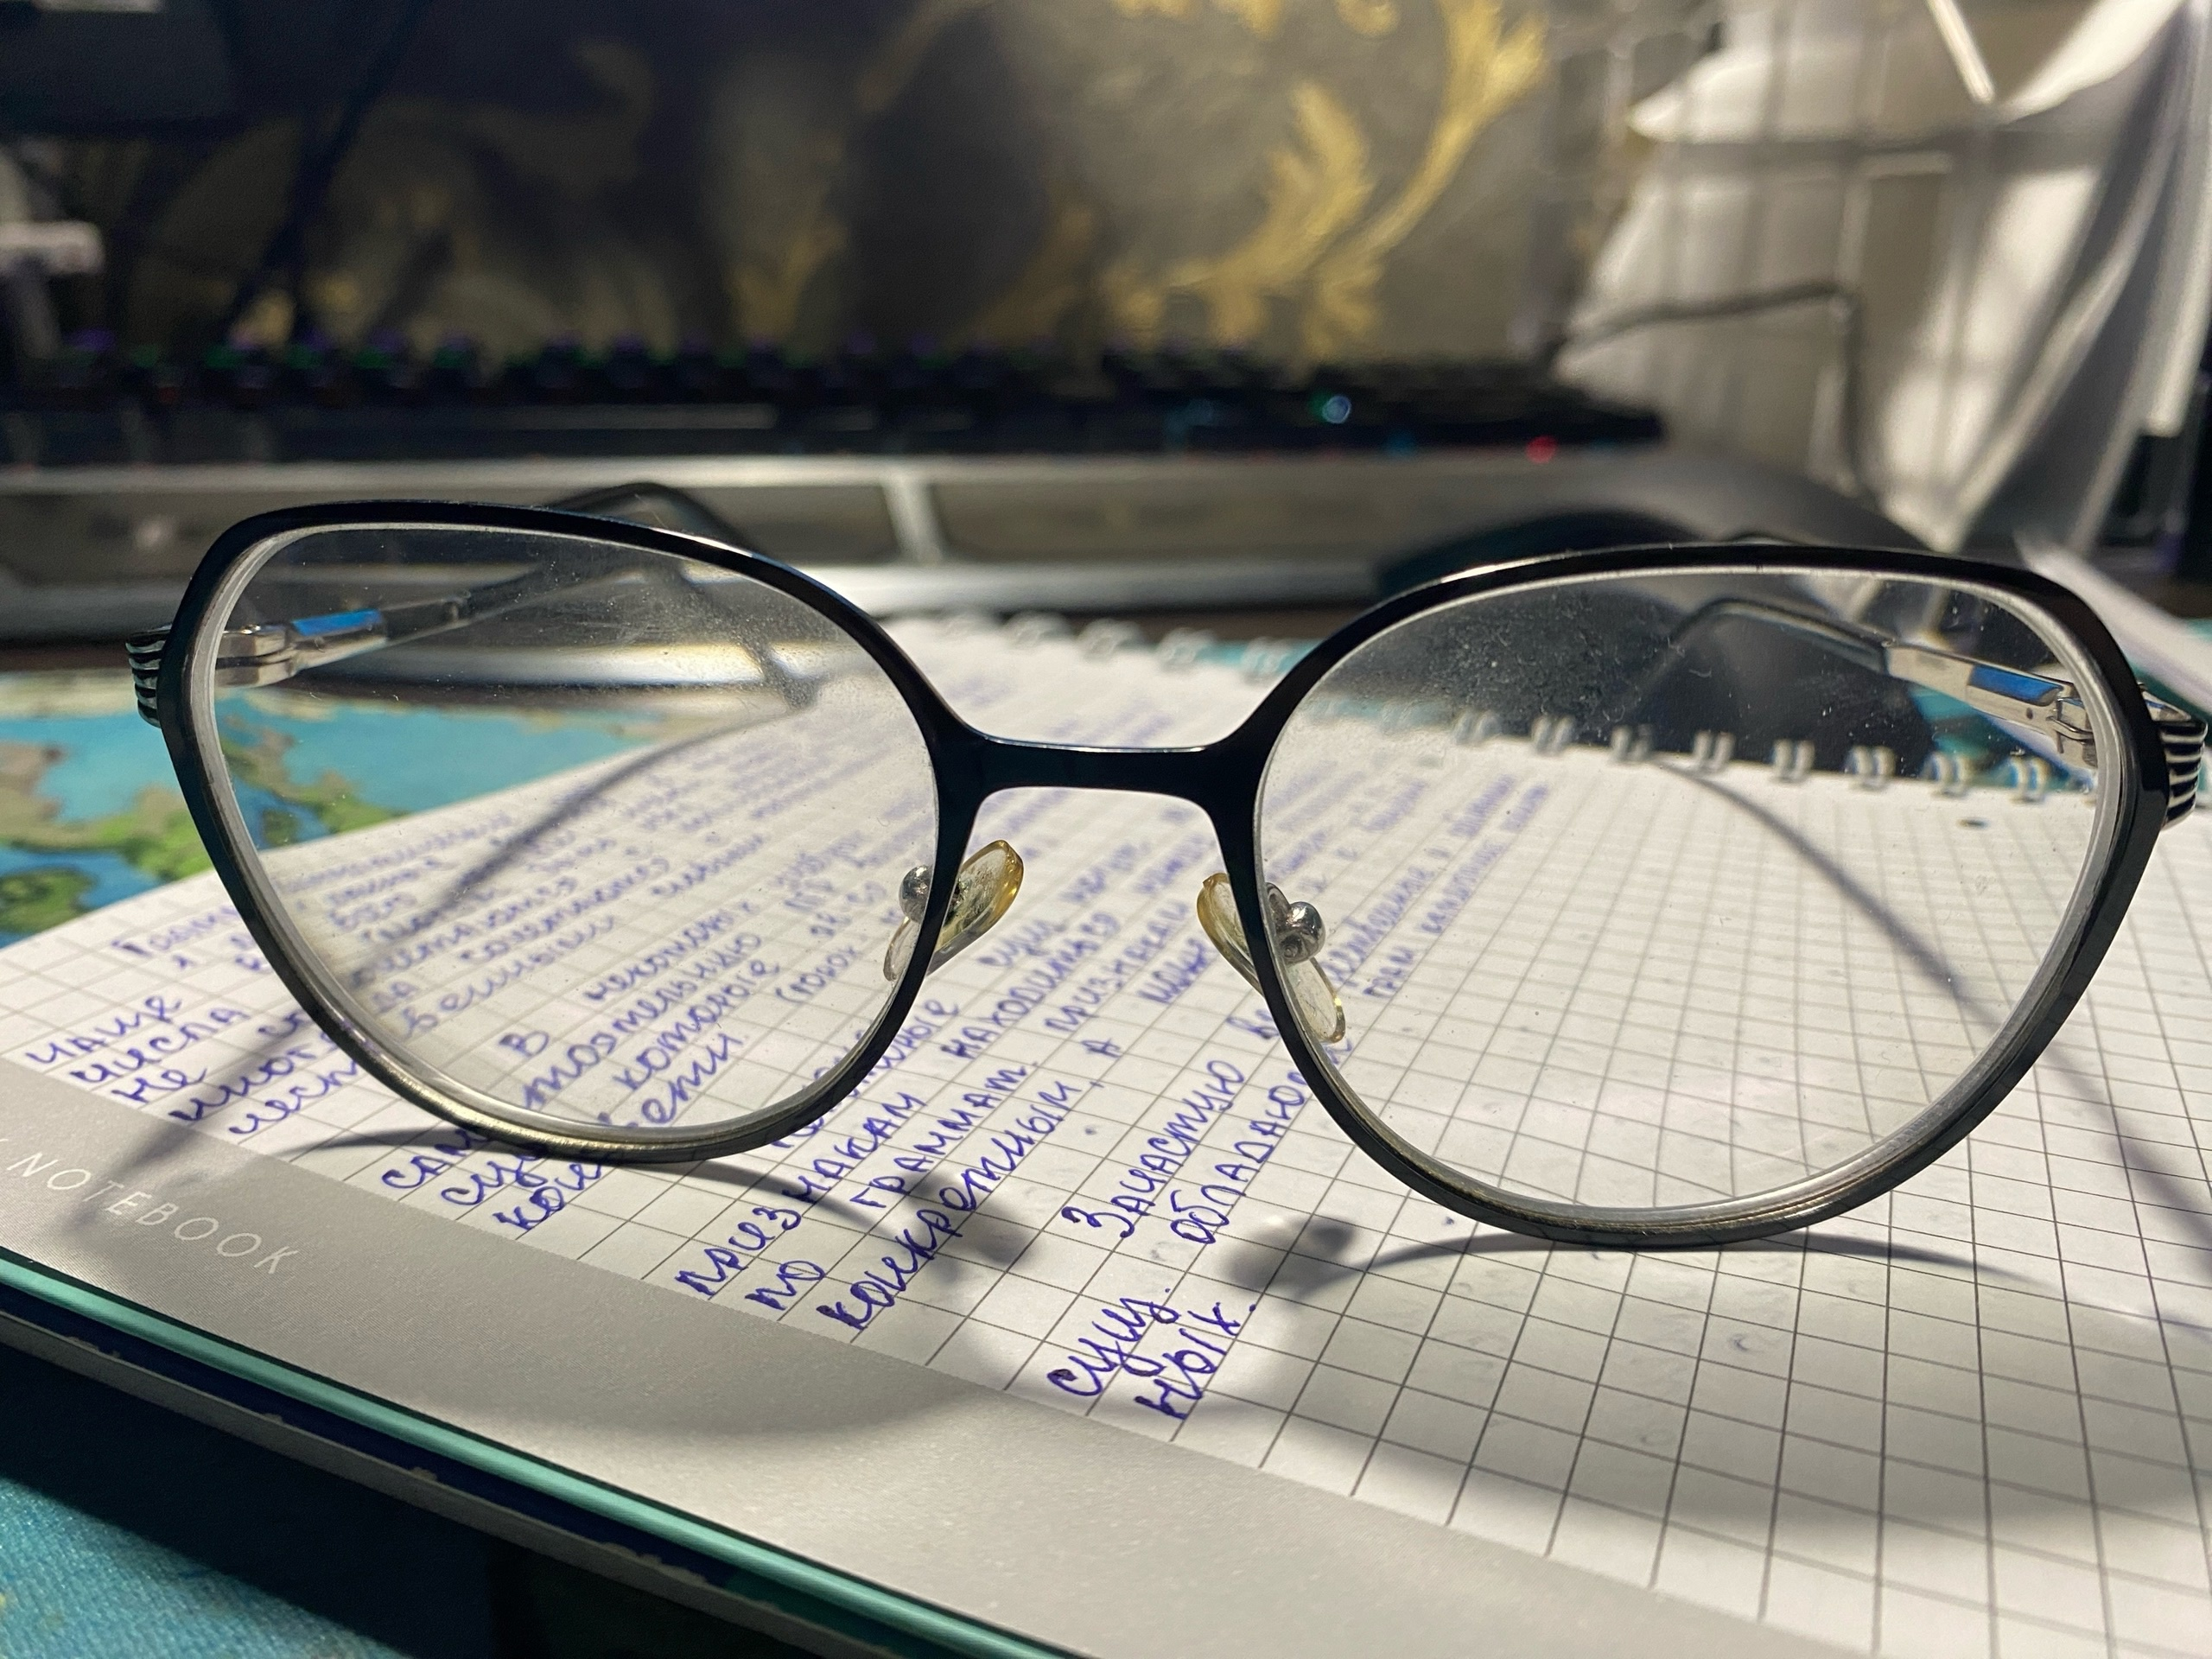glasses: (134, 504, 2200, 1244)
